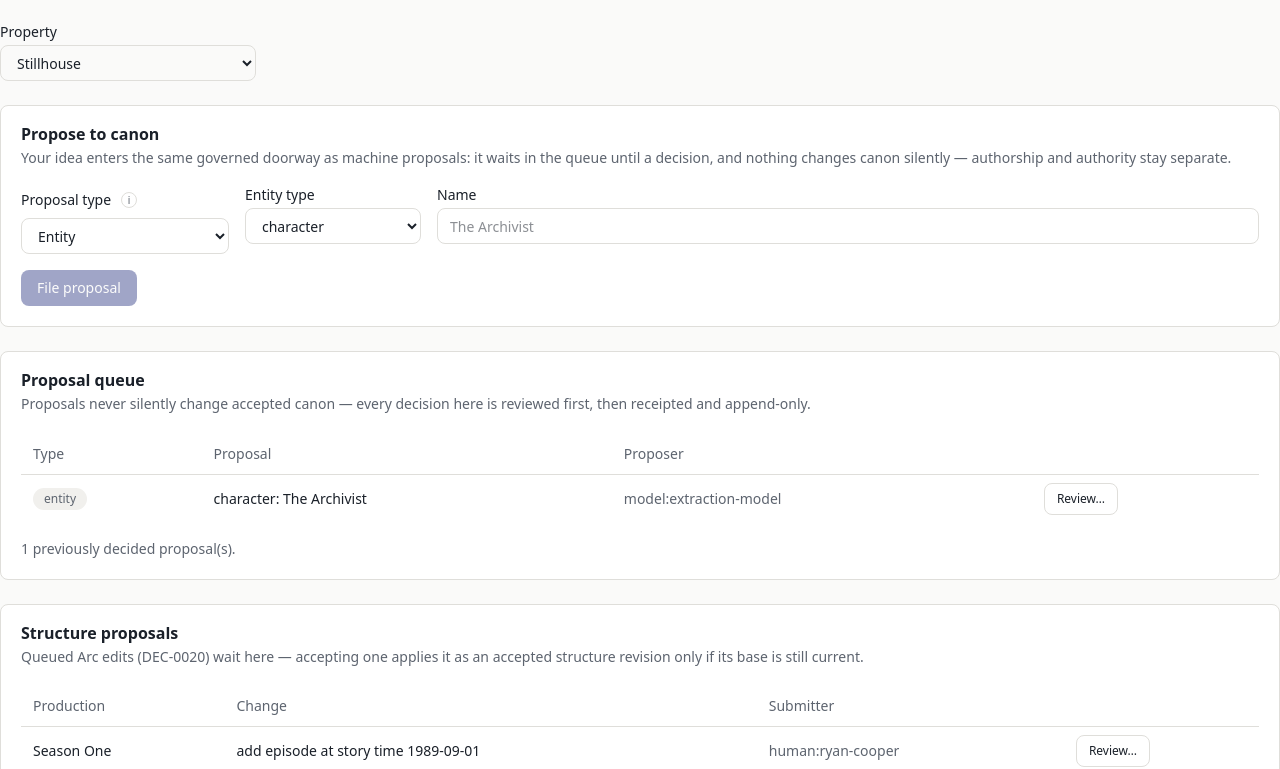
Scenario: Review Room — structure proposals (DEC-0020) › lists a queued structure proposal and accepts it through the consequence review
The width and height of the screenshot is (1280, 769).
Click the button "Review…" in the row of "Season One".
click(1113, 751)  # box [1076,735,1150,767]
(page scrolled)
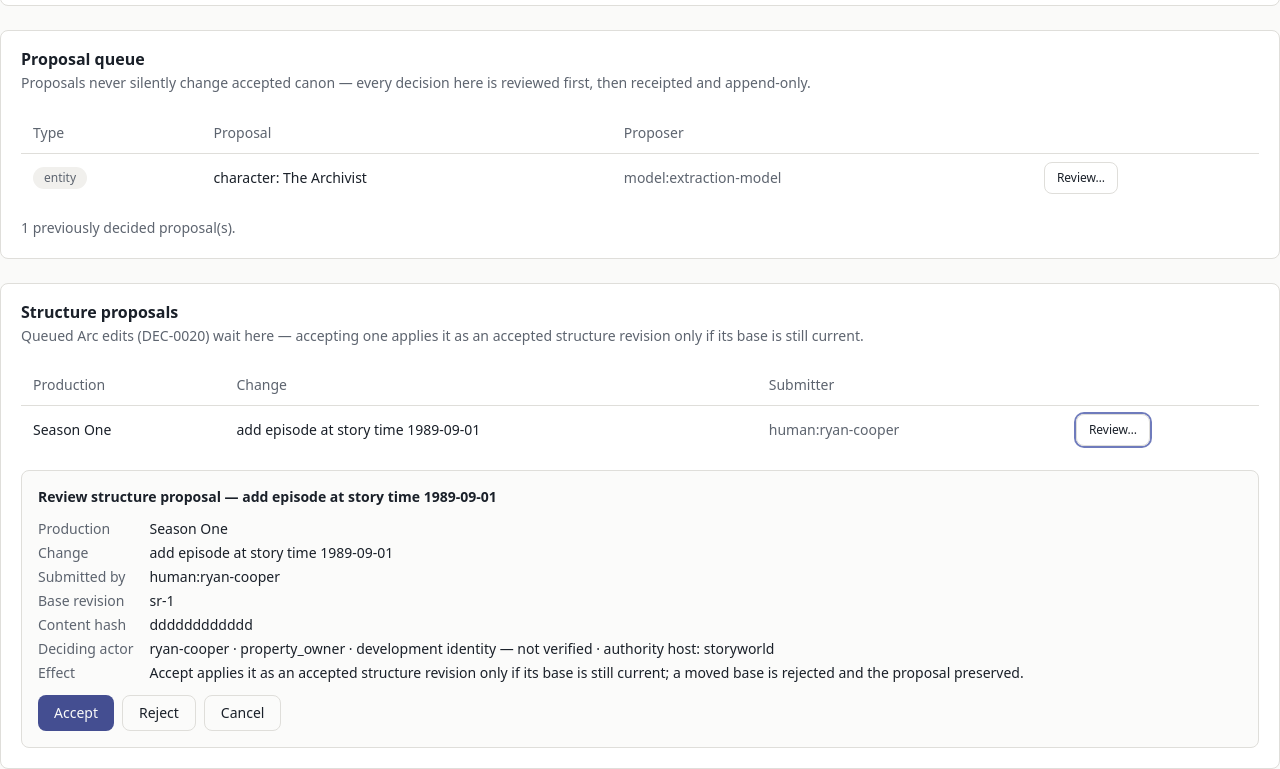
expect the text "a moved base is rejected and the proposal preserved" is shown: met, box [150,663,1024,682]
// A second explicit activation records the decision.
Click the button "Accept".
click(76, 713)  # box [38,695,114,731]
(page scrolled)
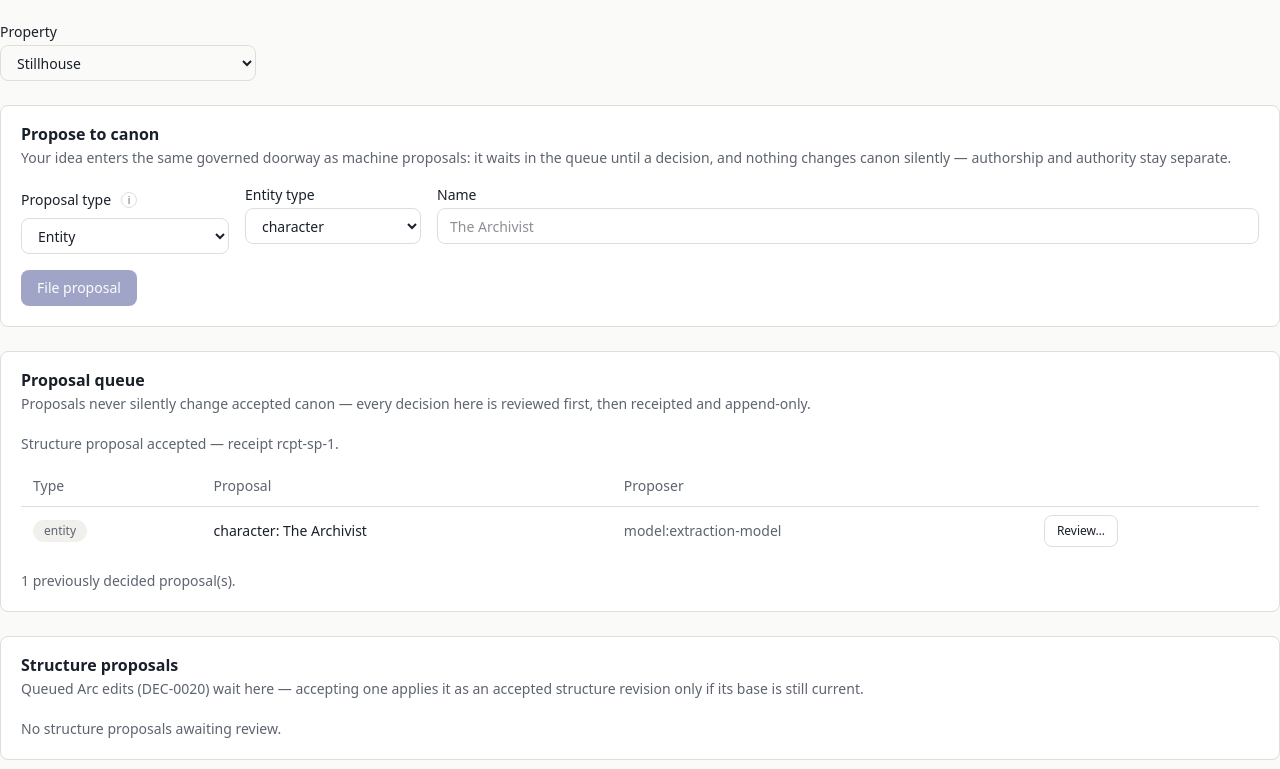
expect the text "Structure proposal accepted — receipt rcpt-sp-1." is shown: met, box [21,434,339,453]
